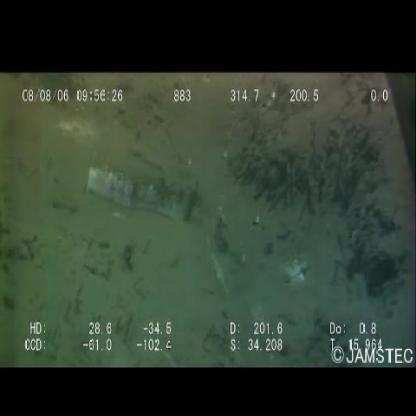Rác: (86, 166, 202, 222)
